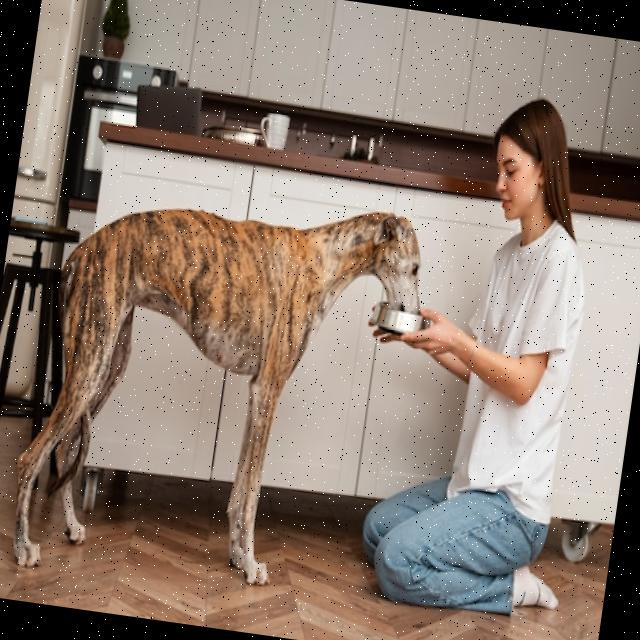Dog: (3, 167, 434, 616)
Person: (332, 76, 630, 628)
